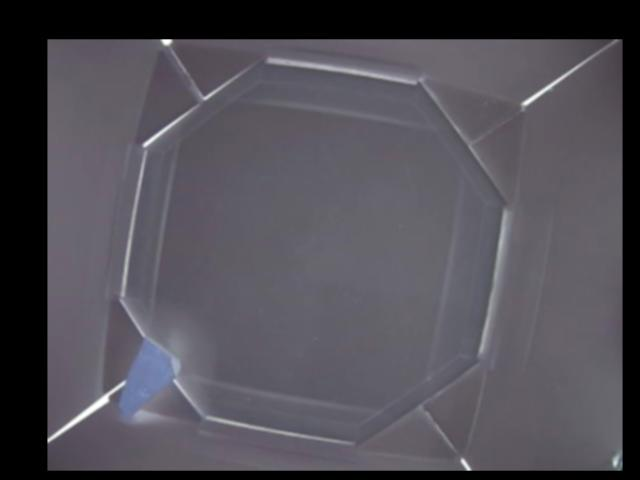China: (118, 338, 178, 423)
